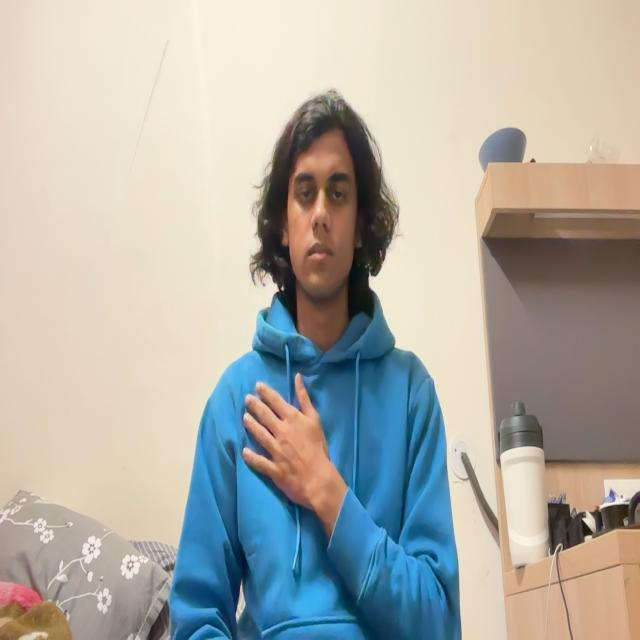Please: (224, 360, 360, 518)
